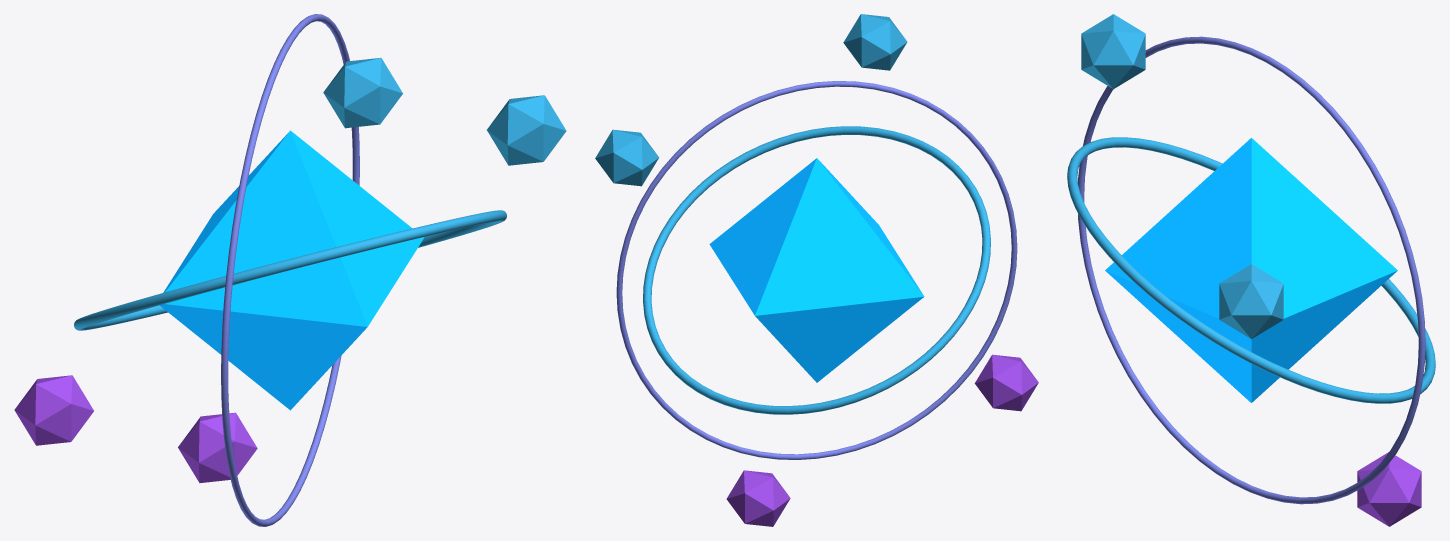
The model's file is boxem_software_architecture_core.glb.
3 renders of one model, left to right at view 1: azimuth 30°, elevation 25°; view 2: azimuth 150°, elevation 25°; view 3: azimuth 270°, elevation 25°, orthographic. The views are drawn at different scales.
Visible parts, largest first — view 1: SoftwareArchitectureCore; view 2: SoftwareArchitectureCore; view 3: SoftwareArchitectureCore.
Boxes of the visible parts, x1,y1,x2,y2 form: SoftwareArchitectureCore: [14, 14, 566, 526]; SoftwareArchitectureCore: [595, 14, 1038, 526]; SoftwareArchitectureCore: [1067, 14, 1435, 526].
Size of the model in its own units: 3.37 by 3.17 by 2.14.
